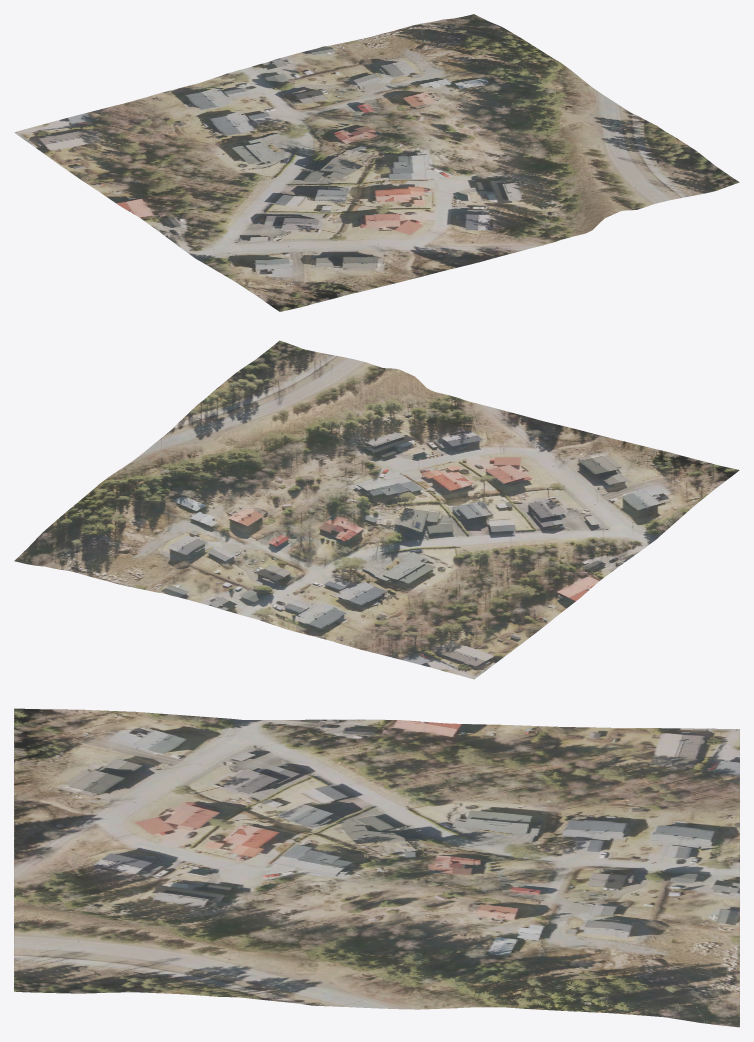
File: CM_Terrain_24490049_6817746.fbx
The picture shows the model from 3 angles, top to bottom: view 1: azimuth 30°, elevation 25°; view 2: azimuth 150°, elevation 25°; view 3: azimuth 270°, elevation 25°; orthographic projection. The views are drawn at different scales.
Parts seen in each view (by area): view 1: CM_Terrain_24490049_6817746_LOD0; view 2: CM_Terrain_24490049_6817746_LOD0; view 3: CM_Terrain_24490049_6817746_LOD0.
Part boxes in pixels (x1,y1,x2,y2): CM_Terrain_24490049_6817746_LOD0: [14, 14, 739, 311]; CM_Terrain_24490049_6817746_LOD0: [14, 340, 739, 679]; CM_Terrain_24490049_6817746_LOD0: [14, 708, 739, 1027].
Size of what is drawn, in the model's own units: 205 by 13.99 by 205.
